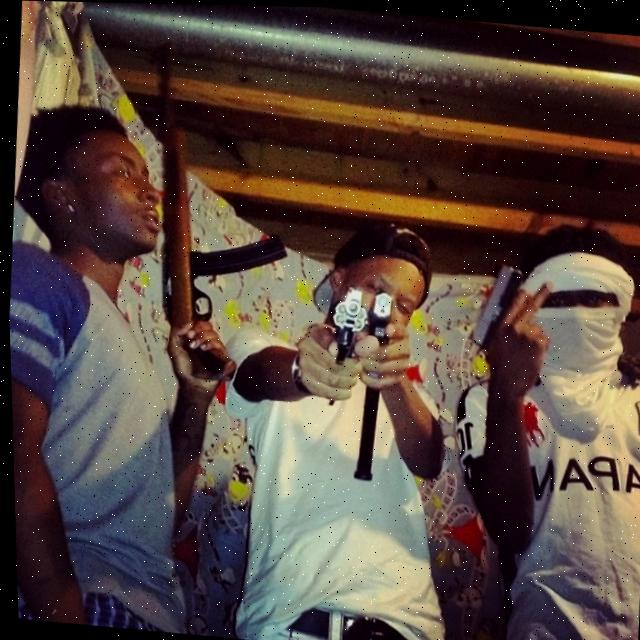firearm: (130, 32, 298, 386)
pistol: (466, 256, 524, 347), (322, 281, 367, 360), (365, 284, 393, 341)
